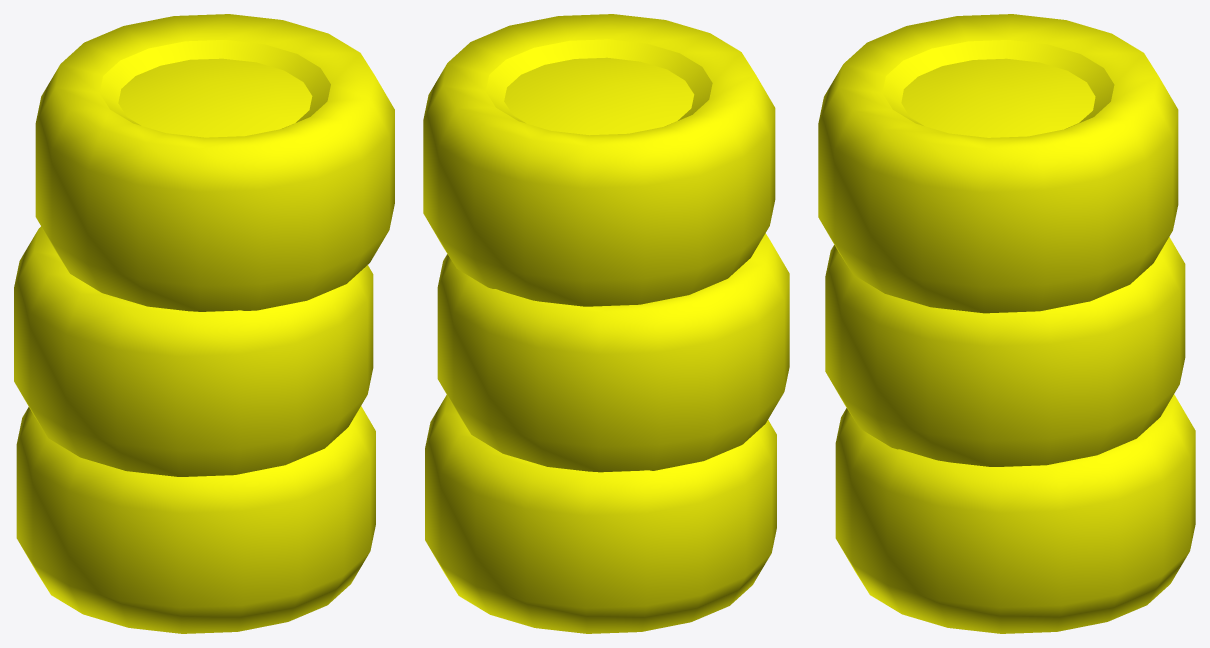
The model's file is parking_wheels00.glb.
The picture shows the model from 3 angles, left to right: view 1: azimuth 30°, elevation 25°; view 2: azimuth 150°, elevation 25°; view 3: azimuth 270°, elevation 25°; orthographic projection. The views are drawn at different scales.
Parts seen in each view (by area): view 1: parking_wheels00; view 2: parking_wheels00; view 3: parking_wheels00.
Boxes of the visible parts, x1=… form: parking_wheels00: x1=14, y1=14, x2=394, y2=633; parking_wheels00: x1=423, y1=14, x2=789, y2=633; parking_wheels00: x1=818, y1=14, x2=1195, y2=633.
Size of the model in its own units: 0.7589 by 1.08 by 0.7509.
Materials: 1 (1 with a texture image).
